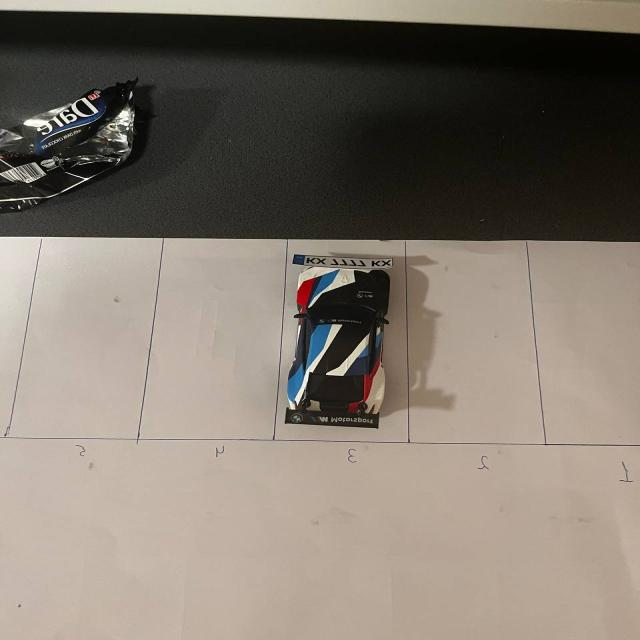cars: (270, 235, 407, 441)
